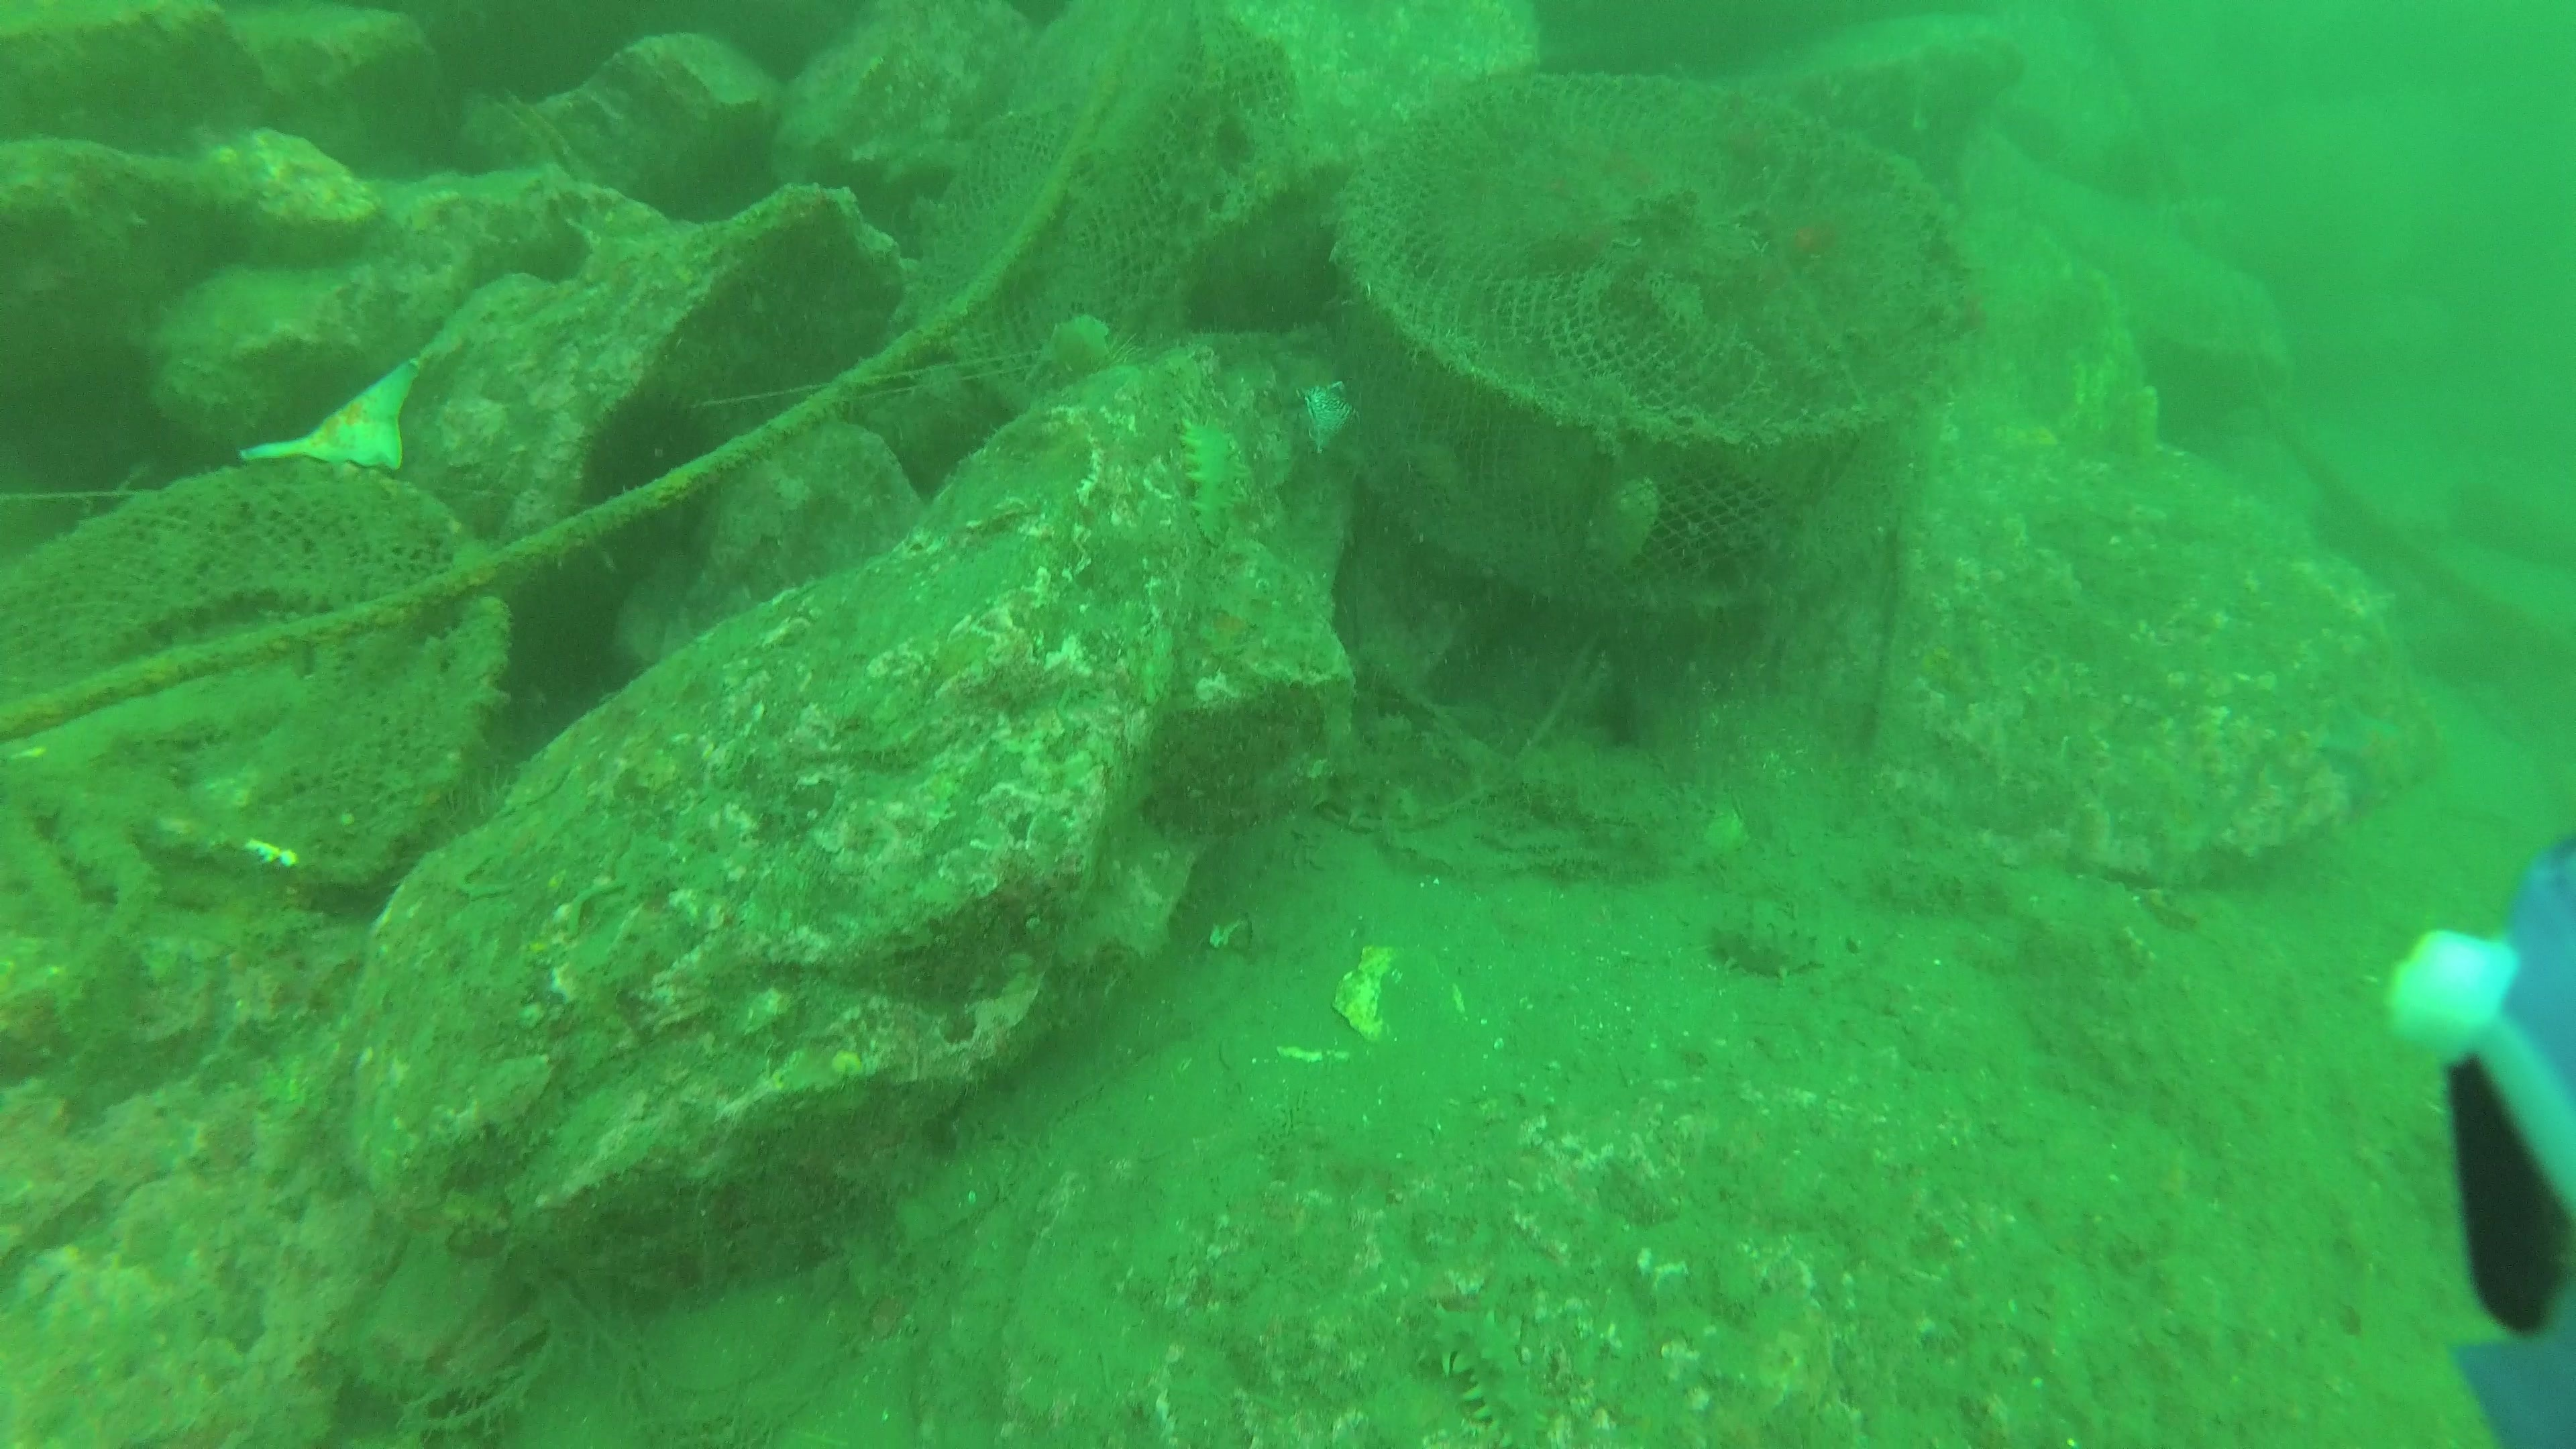holothurian: (1415, 1302, 1562, 1449), (1177, 409, 1256, 548), (1704, 904, 1833, 989)
starfish: (230, 350, 421, 478)
